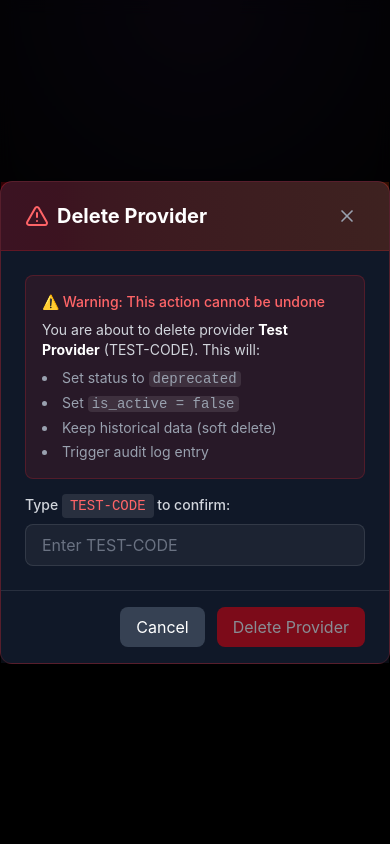
Test: DeleteConfirmationModal › enables delete button only when code matches
# Wrong code
Type "WRONG" into the field with placeholder "Enter TEST-CODE" at (195, 544), box [25,524,365,566]
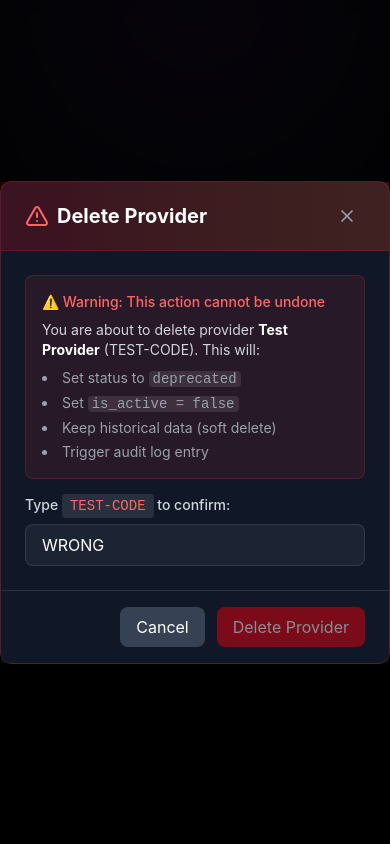
Expected: the button "Delete Provider" is disabled, [217,606,365,646]
# Correct code
Replace the text in the field with placeholder "Enter TEST-CODE" with "TEST-CODE" at (195, 544), box [25,524,365,566]
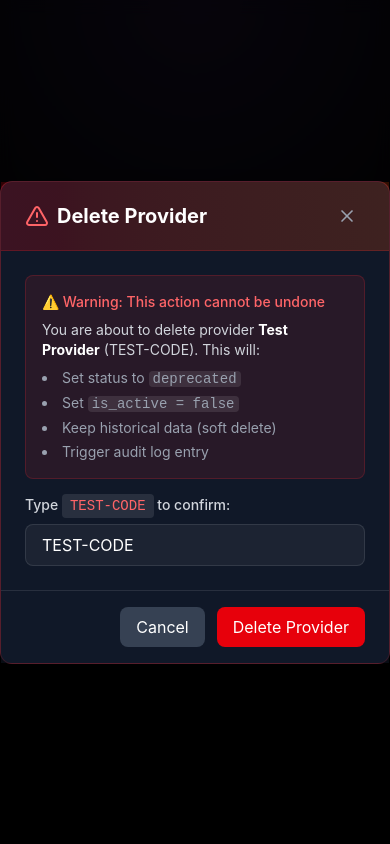
Result: the button "Delete Provider" is enabled at [217,606,365,646]
